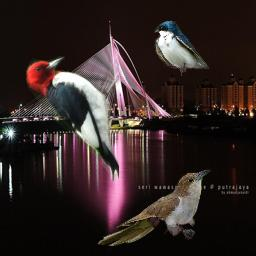Cuckoo: (97, 169, 211, 246)
Swallow: (154, 20, 209, 76)
Woodpecker: (26, 56, 119, 181)
